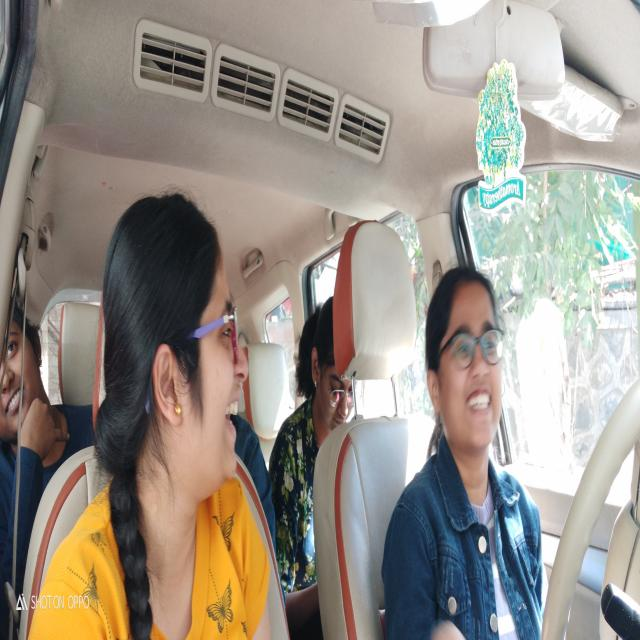person: (101, 180, 257, 520), (421, 259, 507, 457), (294, 297, 354, 434), (1, 291, 47, 460)
talking: (223, 384, 244, 448), (463, 384, 493, 421)
